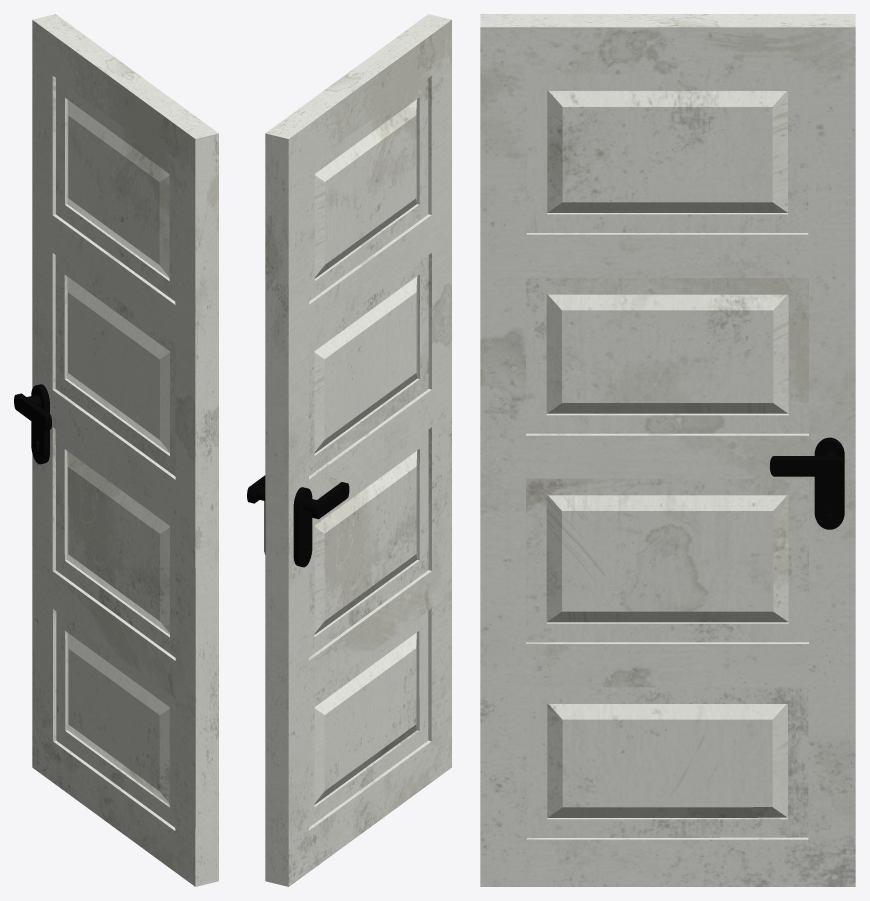
The model's file is Door.obj.
The picture shows the model from 3 angles, left to right: view 1: azimuth 30°, elevation 25°; view 2: azimuth 150°, elevation 25°; view 3: azimuth 270°, elevation 25°; orthographic projection. The views are drawn at different scales.
Parts seen in each view (by area): view 1: Door2, Door2_Handles; view 2: Door2, Door2_Handles; view 3: Door2, Door2_Handles.
Boxes of the visible parts, bbox=[...] form: Door2: bbox=[32, 14, 218, 886]; Door2_Handles: bbox=[14, 384, 51, 464]; Door2: bbox=[265, 14, 451, 886]; Door2_Handles: bbox=[247, 475, 349, 567]; Door2: bbox=[480, 14, 855, 886]; Door2_Handles: bbox=[770, 437, 844, 529].
Size of what is drawn, in the model's own units: 0.2121 by 2.16 by 0.8537.
